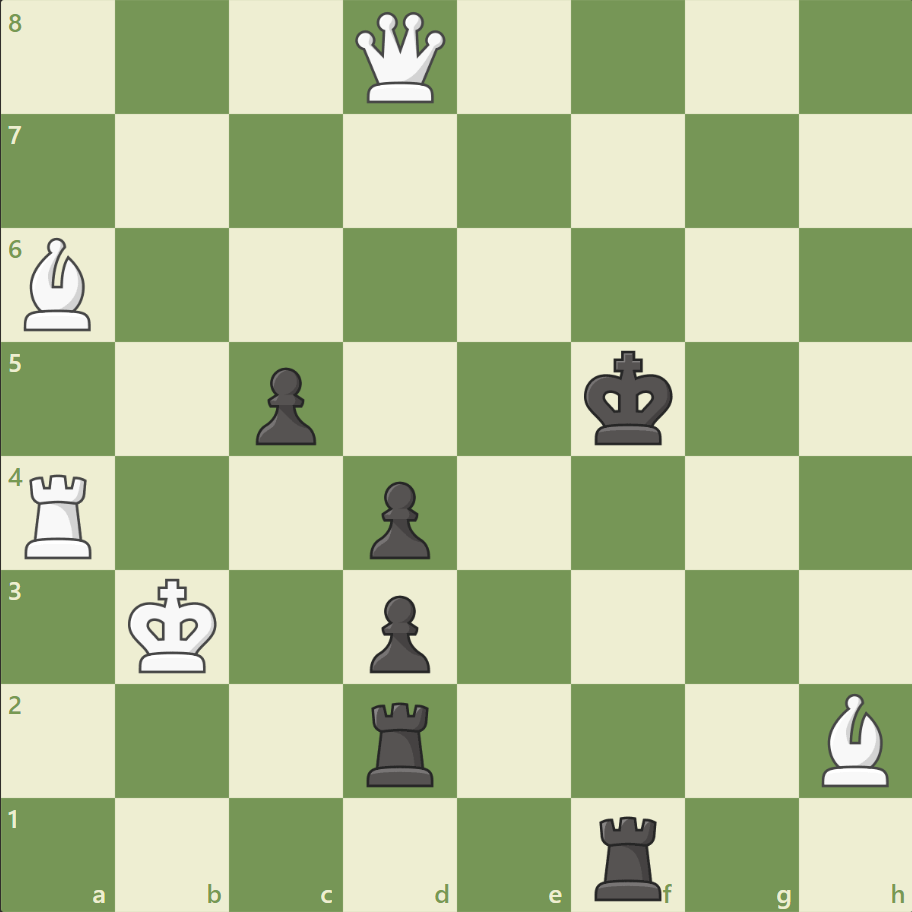B: (17, 233, 101, 336), (812, 687, 896, 790)
K: (124, 571, 224, 679)
Q: (351, 9, 450, 108)
R: (19, 466, 102, 563)
k: (579, 344, 679, 452)
p: (247, 359, 322, 450), (361, 473, 435, 564), (361, 586, 435, 677)
r: (587, 806, 670, 904), (360, 693, 442, 790)
